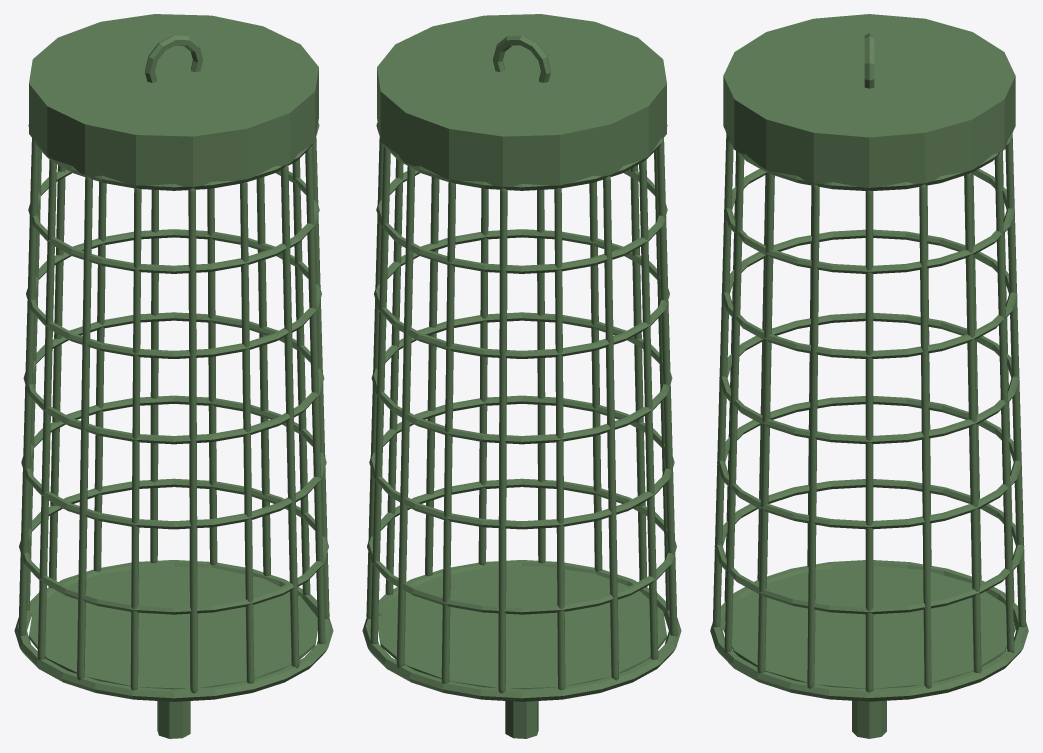
The model's file is cp_trash_can.glb.
The picture shows the model from 3 angles, left to right: view 1: azimuth 30°, elevation 25°; view 2: azimuth 150°, elevation 25°; view 3: azimuth 270°, elevation 25°; orthographic projection.
Parts seen in each view (by area): view 1: CP_TrashCan; view 2: CP_TrashCan; view 3: CP_TrashCan.
Part boxes in pixels (left/top/right/bottom): CP_TrashCan: left=14, top=14, right=333, bottom=738; CP_TrashCan: left=362, top=14, right=681, bottom=738; CP_TrashCan: left=710, top=14, right=1028, bottom=738.
Size of the model in its own units: 0.458 by 1.1 by 0.458.
